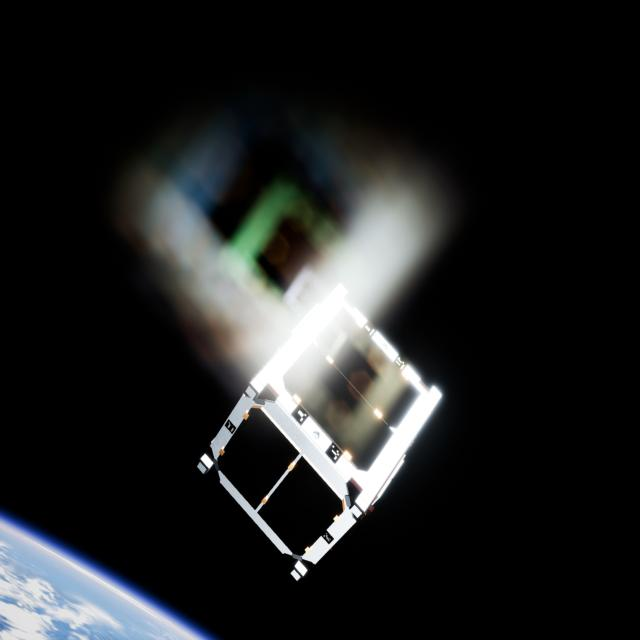medium_debris: (192, 281, 456, 583)
